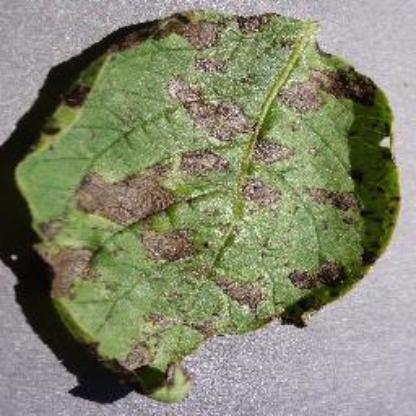Early-Blight: (6, 10, 400, 402)
